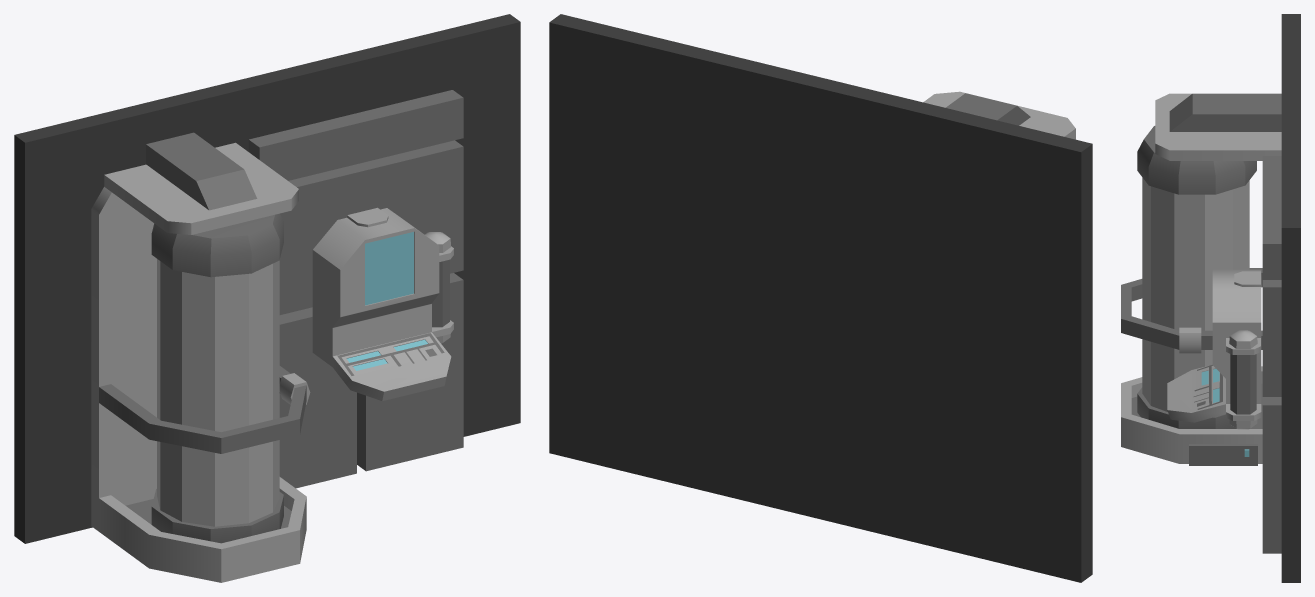
The model's file is Medicalbay.fbx.
The picture shows the model from 3 angles, left to right: view 1: azimuth 30°, elevation 25°; view 2: azimuth 150°, elevation 25°; view 3: azimuth 270°, elevation 25°; orthographic projection. The views are drawn at different scales.
Parts seen in each view (by area): view 1: pCube11, pCylinder9, pCube12, medicalbay_pCube7, polySurface1, pCube6, polySurface3, medicalbay_pCube8, medicalbay_pCube9, pCube13, pCylinder6, polySurface5 (+6 smaller); view 2: pCube11, pCube13, pCube14; view 3: pCylinder9, pCube11, pCube13, polySurface3, pCube14, polySurface1, pCylinder6, medicalbay_pCube9, pCube6, polySurface7, medicalbay_pCube7, polySurface5 (+10 smaller).
Boxes of the visible parts, <box> form: pCube11: <box>14,14,520,543</box>; pCylinder9: <box>157,259,279,526</box>; pCube12: <box>91,187,156,531</box>; medicalbay_pCube7: <box>279,140,463,314</box>; polySurface1: <box>312,208,439,366</box>; pCube6: <box>248,90,463,180</box>; polySurface3: <box>99,477,306,582</box>; medicalbay_pCube8: <box>279,307,356,488</box>; medicalbay_pCube9: <box>357,273,463,471</box>; pCube13: <box>104,142,298,234</box>; pCylinder6: <box>151,213,283,277</box>; polySurface5: <box>99,366,306,453</box>; pCube11: <box>549,14,1092,582</box>; pCube13: <box>923,91,1075,139</box>; pCube14: <box>945,93,1030,125</box>; pCylinder9: <box>1142,177,1249,411</box>; pCube11: <box>1281,14,1300,582</box>; pCube13: <box>1155,93,1281,160</box>; polySurface3: <box>1121,366,1262,463</box>; pCube14: <box>1169,93,1281,131</box>; polySurface1: <box>1212,269,1261,403</box>; pCylinder6: <box>1137,126,1256,194</box>; medicalbay_pCube9: <box>1262,397,1281,553</box>; pCube6: <box>1262,156,1281,279</box>; polySurface7: <box>1167,366,1225,422</box>; medicalbay_pCube7: <box>1262,280,1281,396</box>; polySurface5: <box>1121,268,1262,349</box>.
Bounding box in the file's own units: 16.19 × 12.53 × 5.75.
